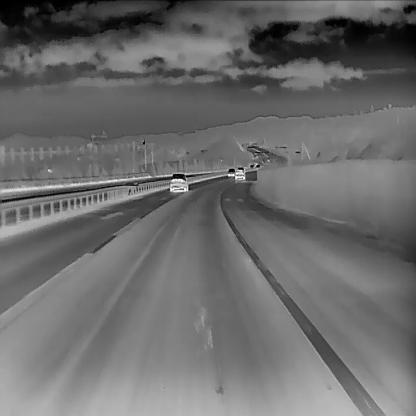car: (167, 172, 188, 192), (233, 168, 245, 180), (226, 166, 236, 176)
